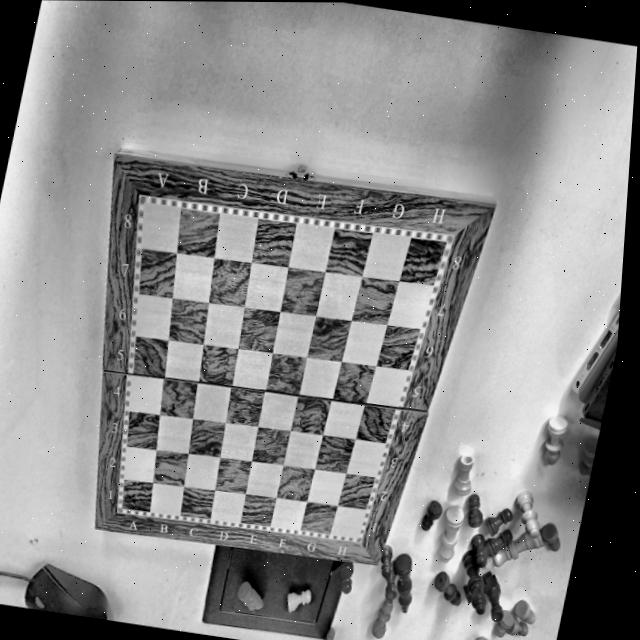chessboard: (97, 154, 496, 565)
